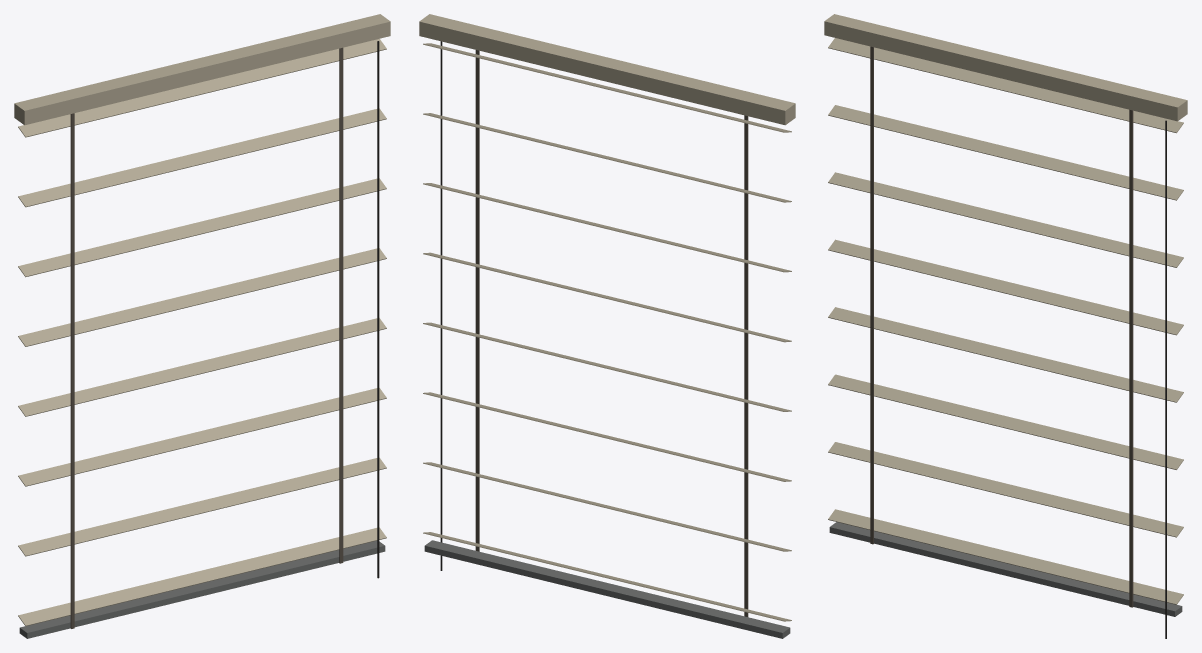
File: kitchen-horizontal-blinds.glb
3 views of the same model, side by side, from view 1: azimuth 30°, elevation 25°; view 2: azimuth 150°, elevation 25°; view 3: azimuth 330°, elevation 25° (orthographic). The views are drawn at different scales.
Parts seen in each view (by area): view 1: plastic-light, fabric, metal, rubber; view 2: plastic-light, metal, fabric, rubber; view 3: plastic-light, metal, fabric, rubber.
Boxes of the visible parts, bbox=[...] form: plastic-light: bbox=[14, 14, 390, 626]; fabric: bbox=[70, 47, 343, 628]; metal: bbox=[19, 540, 385, 638]; rubber: bbox=[377, 41, 379, 578]; plastic-light: bbox=[419, 14, 795, 621]; metal: bbox=[424, 540, 790, 638]; fabric: bbox=[475, 50, 748, 616]; rubber: bbox=[440, 41, 442, 570]; plastic-light: bbox=[824, 14, 1187, 604]; metal: bbox=[829, 522, 1182, 616]; fabric: bbox=[870, 46, 1133, 607]; rubber: bbox=[1165, 120, 1166, 638].
Size of the model in its own units: 0.9 by 1.3 by 0.045.
